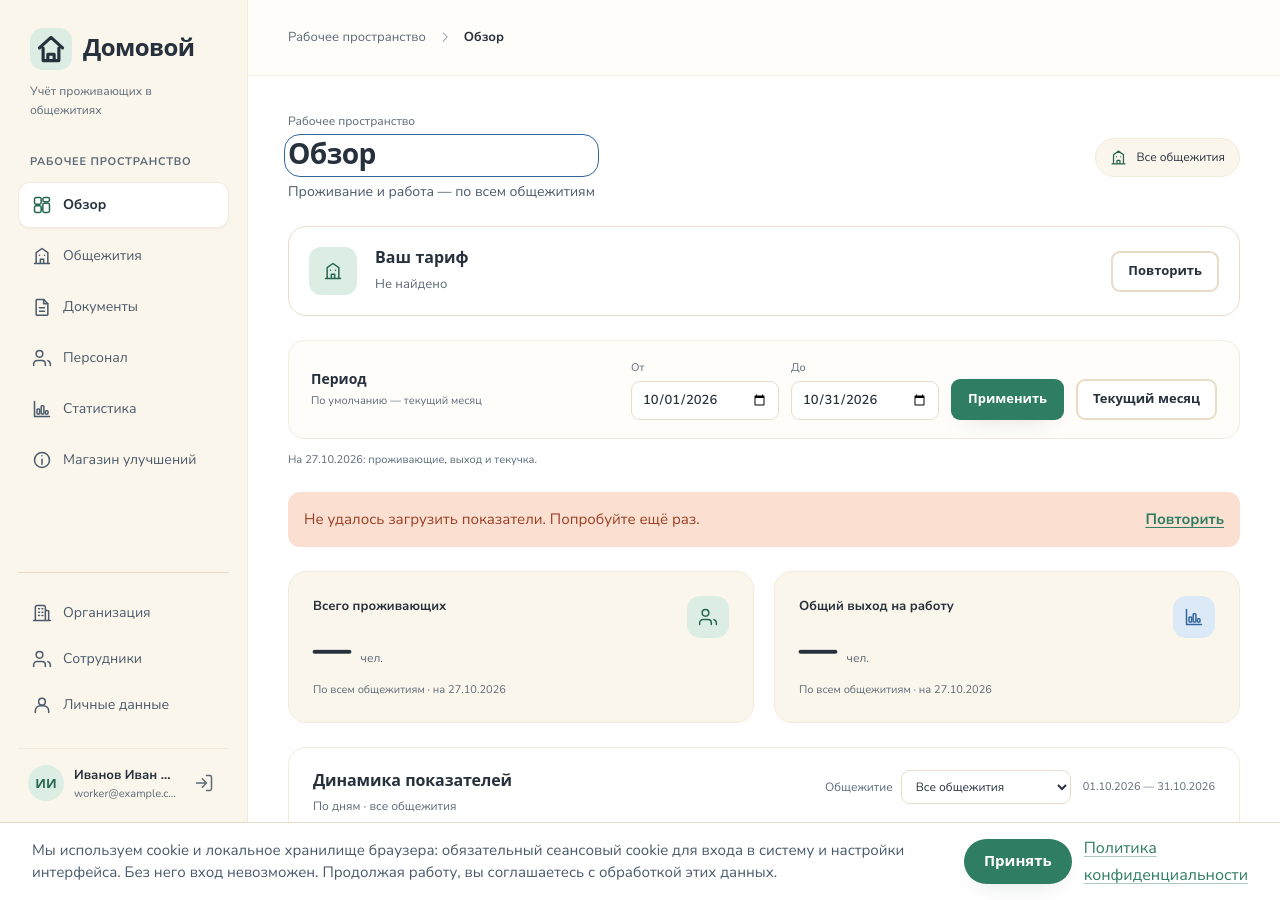
Test: защищённый маршрут /cabinet › открывает обзор, а реальные личные данные показывает внутри общей оболочки
Click the link with test id "workspace-nav-profile": (100, 705) [32,695,169,715]
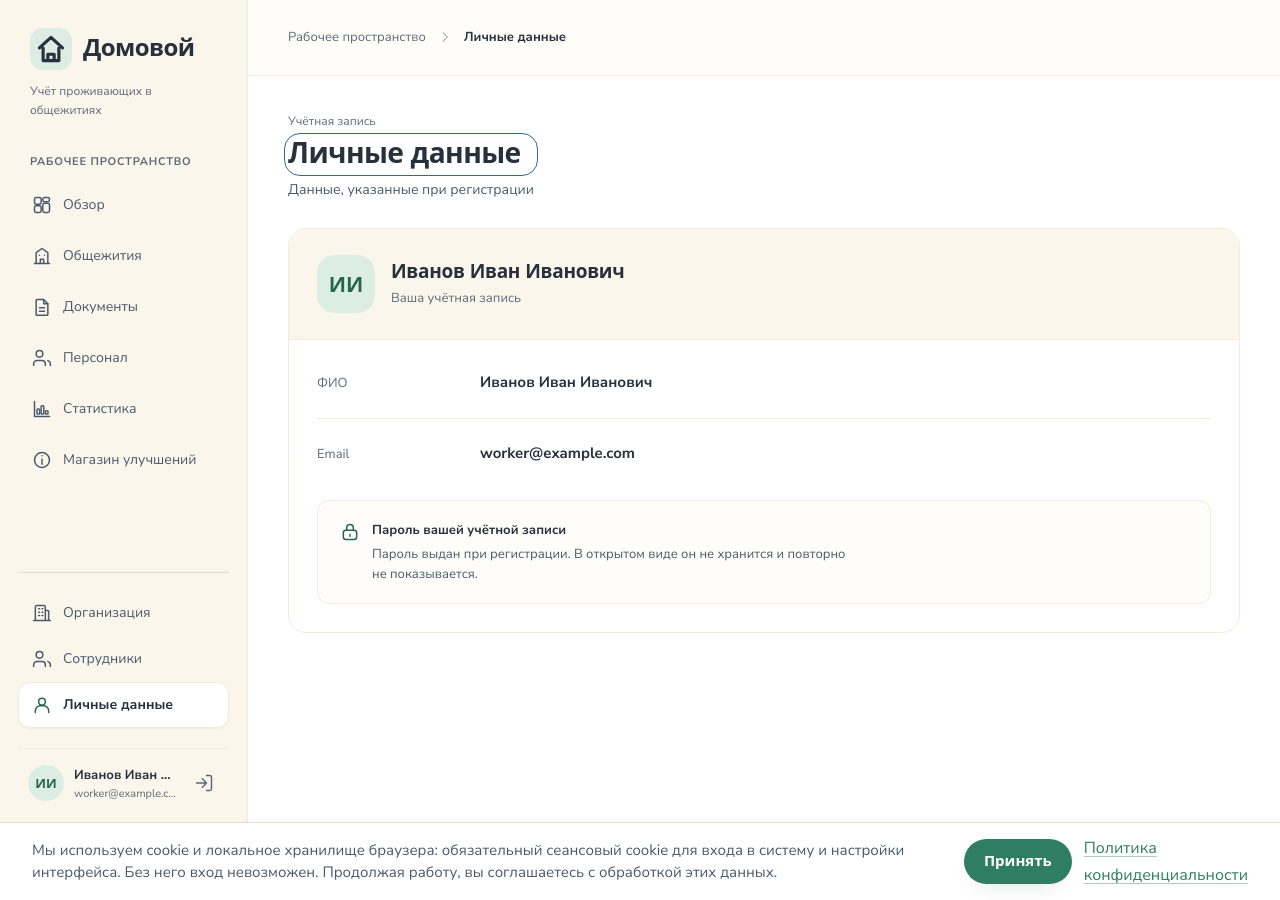
expect the text with test id "cabinet-full-name" reads "Иванов Иван Иванович": met, box [480,372,652,392]
expect the text with test id "cabinet-email" reads "worker@example.com": met, box [480,443,635,463]
Click the link with test id "workspace-nav-overview": (68, 205) [32,195,105,215]
(page scrolled)
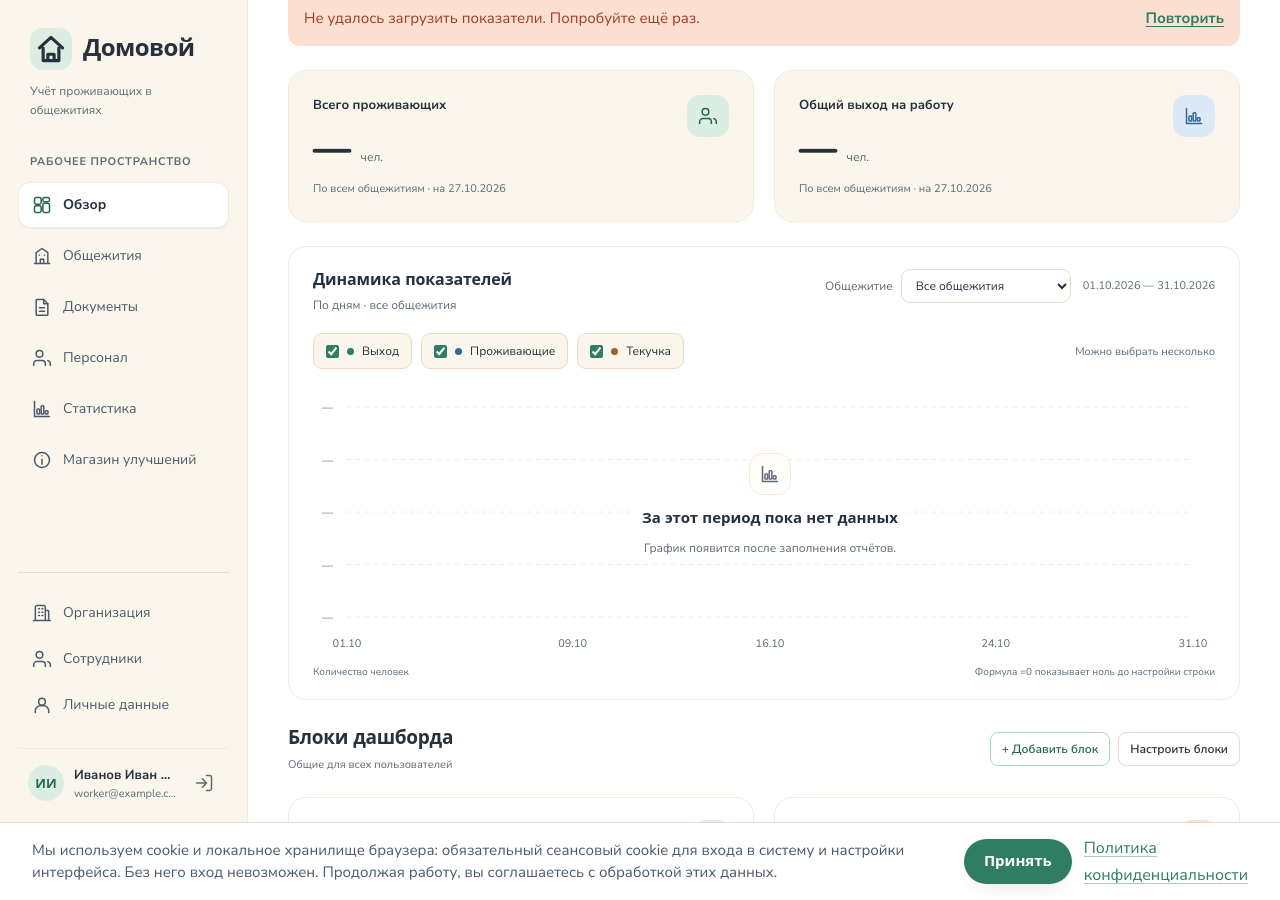
expect the element with test id "personal-data-page" is gone: met
